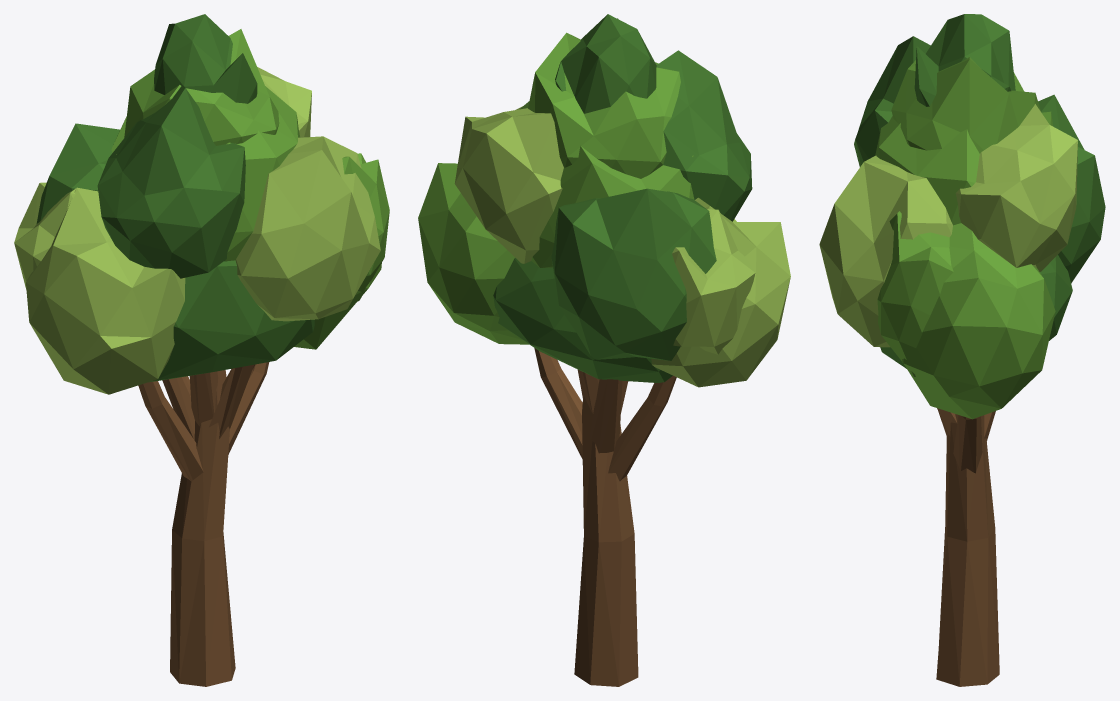
The picture shows the model from 3 angles, left to right: view 1: azimuth 30°, elevation 25°; view 2: azimuth 150°, elevation 25°; view 3: azimuth 270°, elevation 25°; orthographic projection.
Visible parts, largest first — view 1: WK_InnerKeepTree_CourtyardLinden_Teardrop_LOD0_High; view 2: WK_InnerKeepTree_CourtyardLinden_Teardrop_LOD0_High; view 3: WK_InnerKeepTree_CourtyardLinden_Teardrop_LOD0_High.
Part boxes in pixels (x1,y1,x2,y2): WK_InnerKeepTree_CourtyardLinden_Teardrop_LOD0_High: (14, 14, 389, 686); WK_InnerKeepTree_CourtyardLinden_Teardrop_LOD0_High: (418, 14, 790, 686); WK_InnerKeepTree_CourtyardLinden_Teardrop_LOD0_High: (819, 14, 1105, 686).
Bounding box in the file's own units: 2.88 × 5.2 × 2.04.
